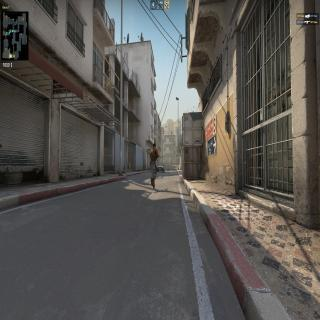T-Head: (152, 142, 156, 150)
